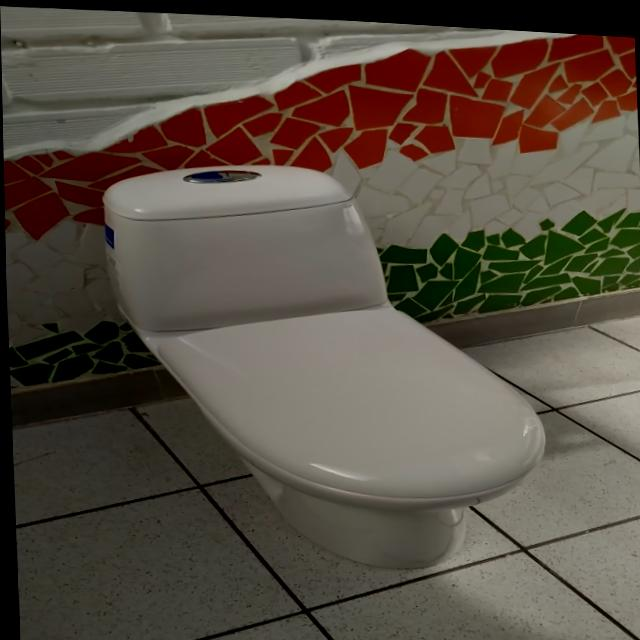toilet: (99, 147, 550, 576)
